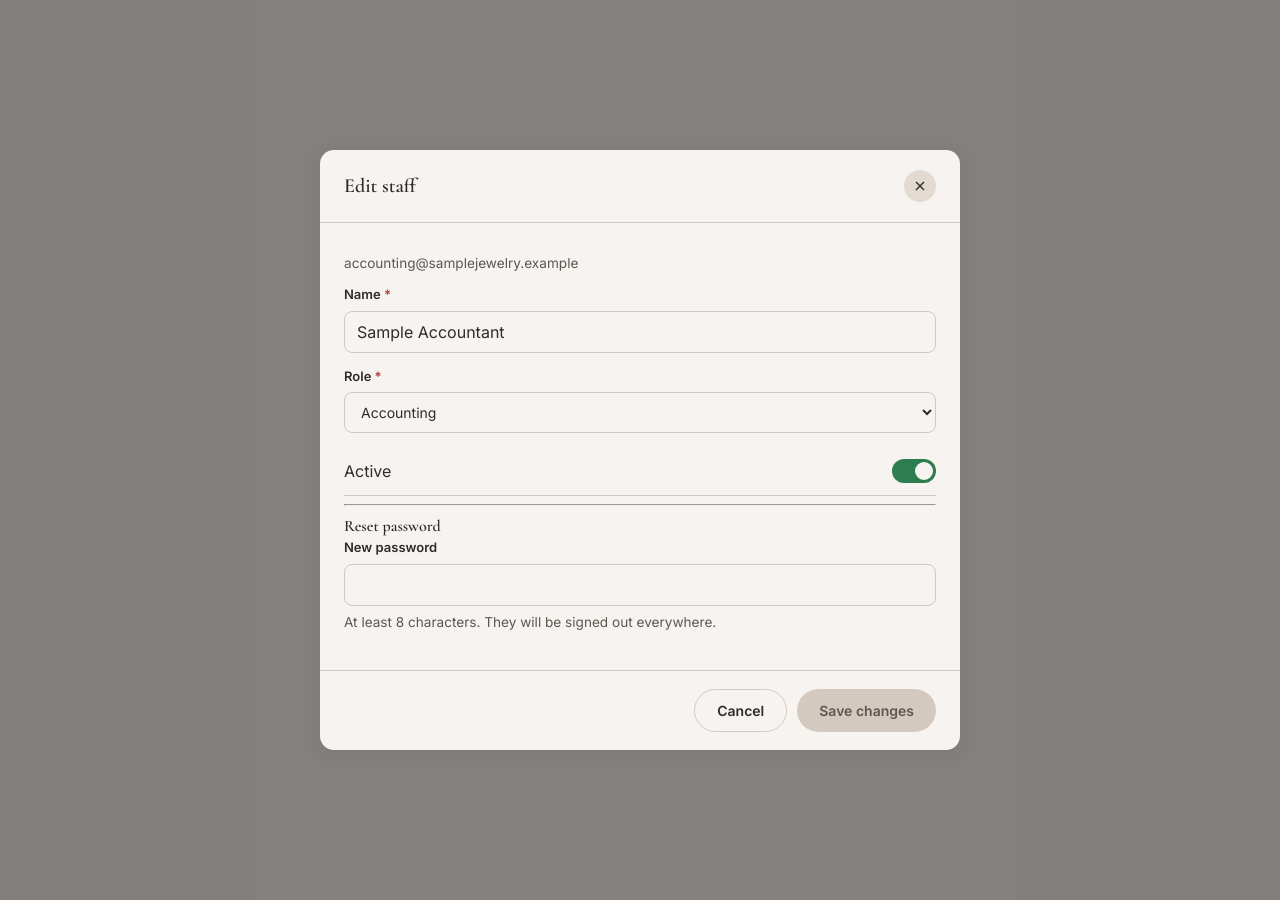
Test: EditStaffModal › shows the email and disables Save until something changes
Check: the text "accounting@samplejewelry.example" is shown, box [344,255,578,271]
Check: the button "Save changes" is disabled, box [797,689,936,732]
Replace the text in the field labelled "Name" with "Renamed" at (640, 332), box [344,311,936,353]
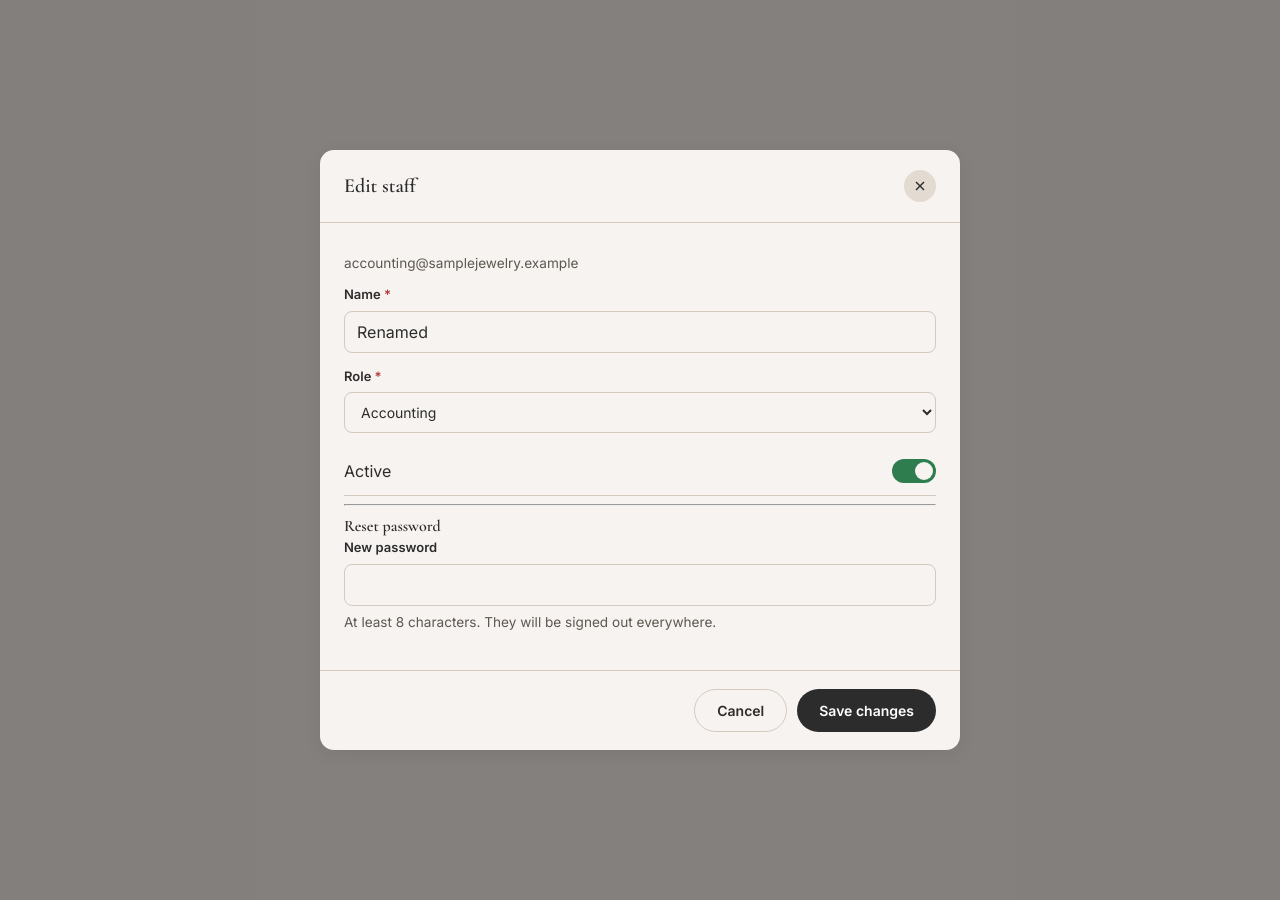
Check: the button "Save changes" is enabled, box [797,689,936,732]
